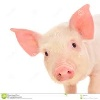heo: (10, 3, 93, 86)
